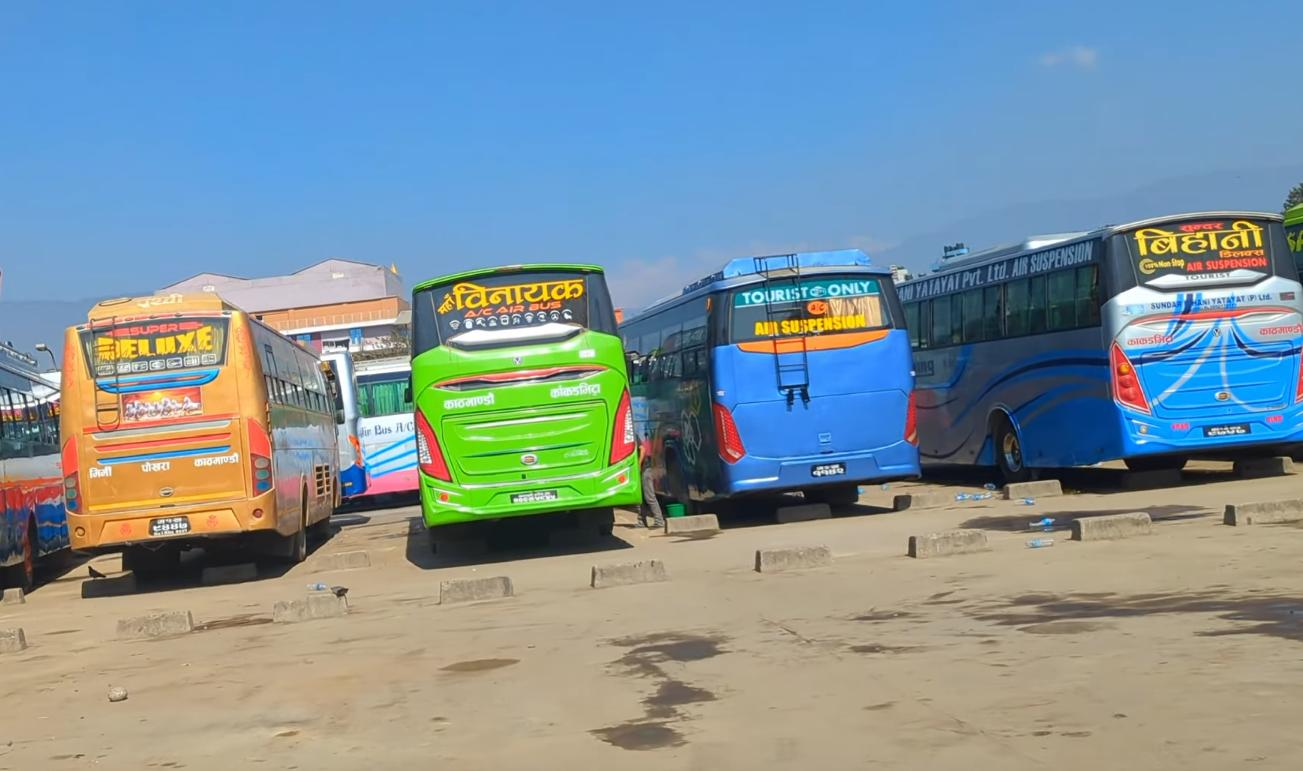bus: (868, 182, 1303, 496), (394, 230, 642, 572), (48, 280, 318, 590), (684, 220, 926, 512)
